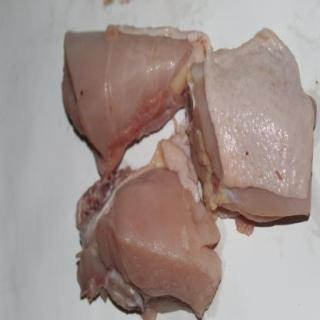Ayam: (79, 134, 223, 320), (198, 24, 318, 225), (62, 29, 201, 172)
